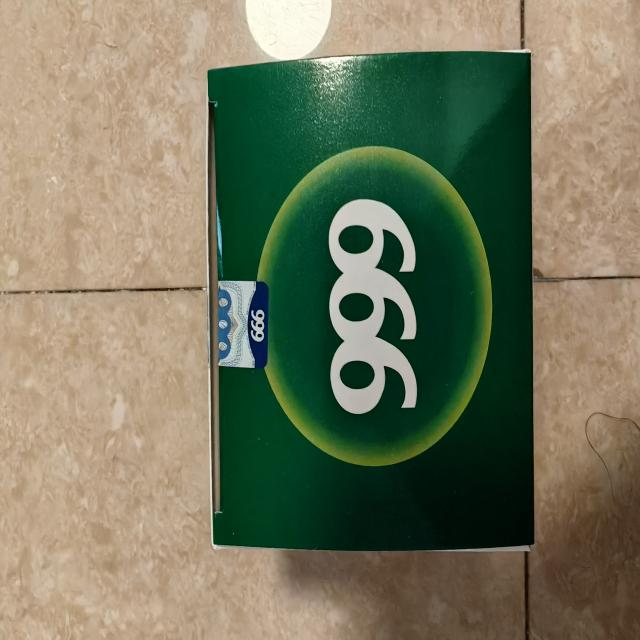box: (195, 41, 550, 562)
